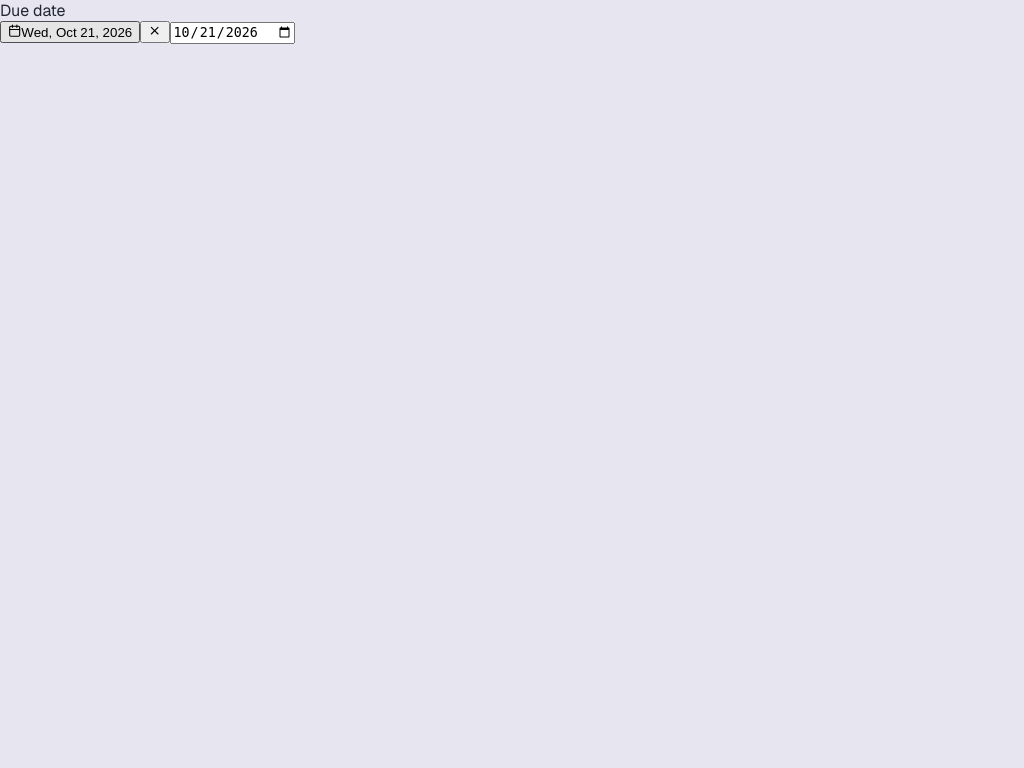
Test: traps Tab in the calendar
Later steps or results of the test are not shown.
Step 1. Click the dropdown with id "due" → (70, 32), box [0,21,140,43]
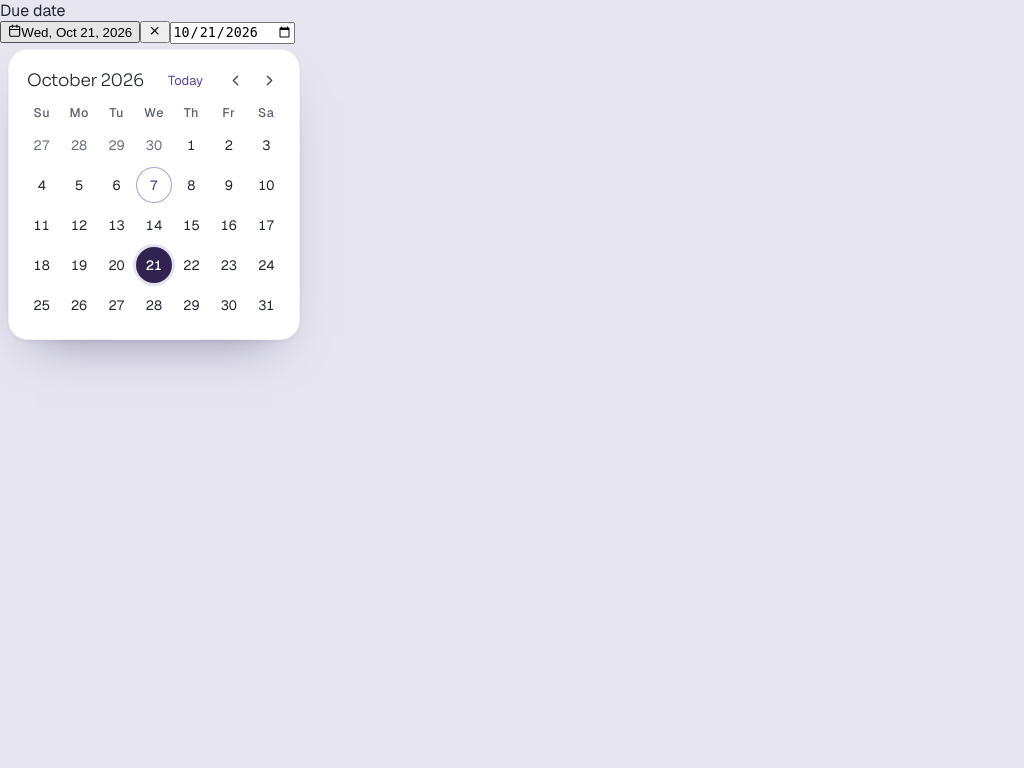
Step 2. Press Tab in the button "21", box [136,247,172,283]
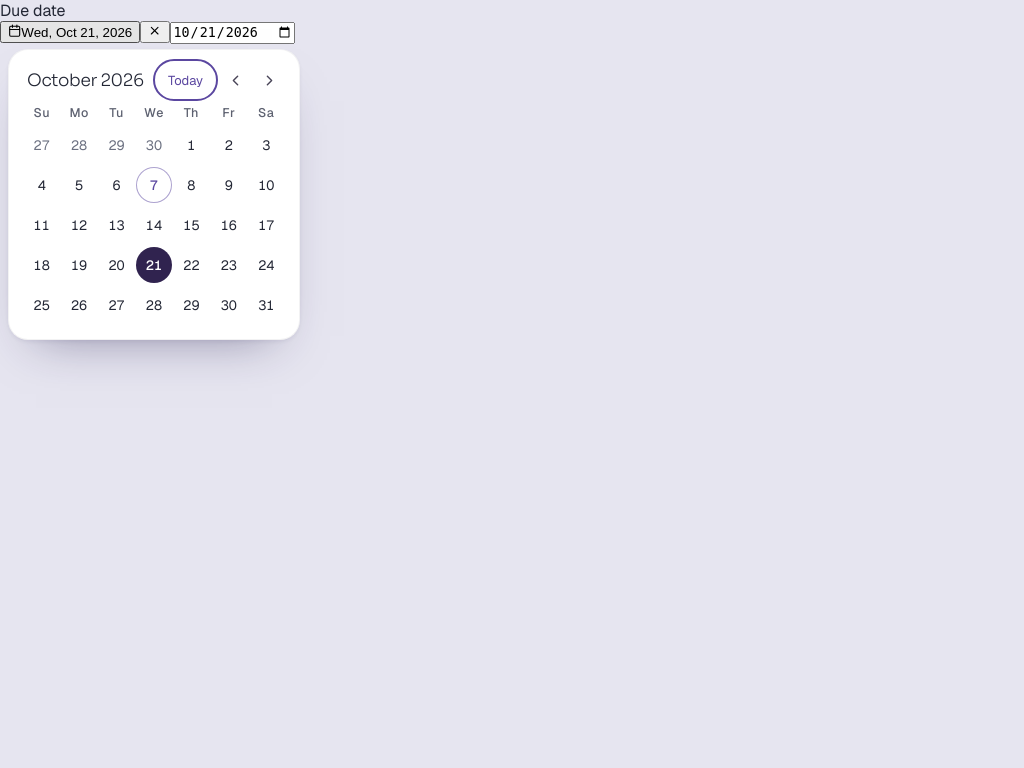
Check: the button "Today" is shown, box [158,64,213,96]
